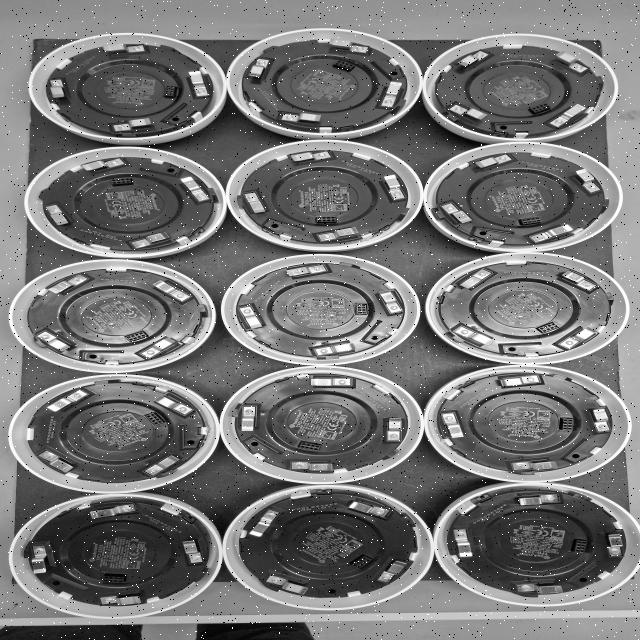yaysiz: (148, 277, 195, 307), (319, 34, 374, 56), (558, 324, 604, 350), (182, 69, 216, 104), (276, 262, 335, 282), (448, 324, 498, 347), (45, 389, 91, 414), (371, 80, 409, 110), (34, 330, 79, 355), (528, 222, 579, 244), (37, 451, 83, 475), (314, 223, 366, 244), (437, 199, 476, 227), (44, 274, 91, 297), (266, 574, 315, 596), (454, 268, 495, 294), (341, 498, 394, 518), (374, 172, 409, 202), (466, 153, 516, 174), (143, 453, 185, 478), (247, 509, 282, 539), (550, 50, 593, 74), (451, 527, 478, 565), (176, 176, 210, 206), (282, 148, 338, 166), (26, 545, 56, 578), (128, 230, 175, 251), (557, 270, 599, 293), (140, 335, 180, 359), (153, 392, 193, 416), (378, 554, 410, 584), (570, 166, 603, 195), (108, 116, 161, 134), (75, 157, 128, 175), (236, 190, 271, 217), (489, 374, 543, 391), (550, 104, 588, 128), (372, 286, 404, 314), (448, 103, 492, 123), (238, 304, 268, 333), (510, 582, 568, 597), (100, 590, 151, 607), (312, 340, 360, 358), (453, 49, 492, 71), (276, 109, 326, 126), (509, 457, 561, 473), (298, 375, 357, 389), (242, 57, 274, 82), (97, 42, 154, 56), (178, 536, 205, 565), (442, 412, 468, 442), (507, 494, 562, 508), (86, 503, 137, 518), (44, 204, 74, 229), (602, 526, 624, 560), (238, 404, 260, 436), (45, 76, 68, 106), (587, 406, 612, 433), (381, 413, 403, 443), (286, 460, 340, 472)
